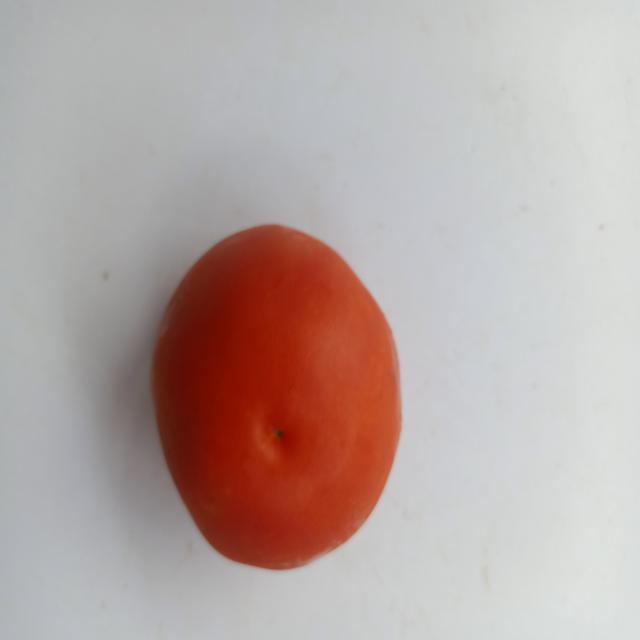Tomato: (144, 203, 418, 598)
